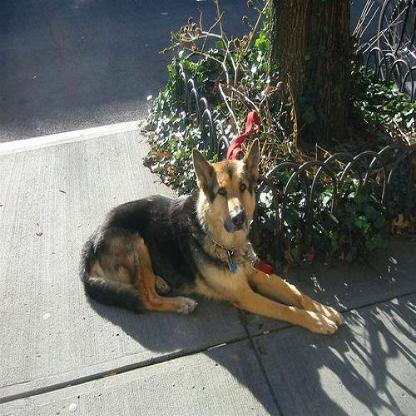German_shepherd: (77, 136, 345, 330)
